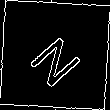N_NE: (23, 23, 87, 87)
